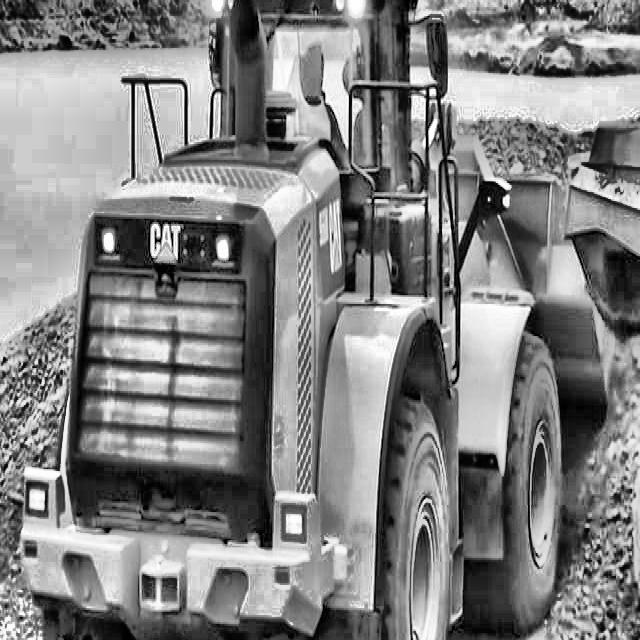buldozerpayloadergrader: (14, 0, 619, 640)
